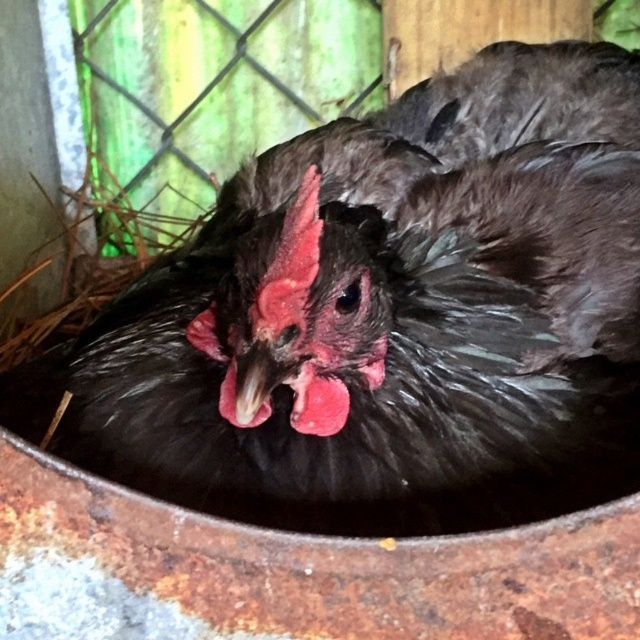Chicken: (0, 31, 639, 539)
